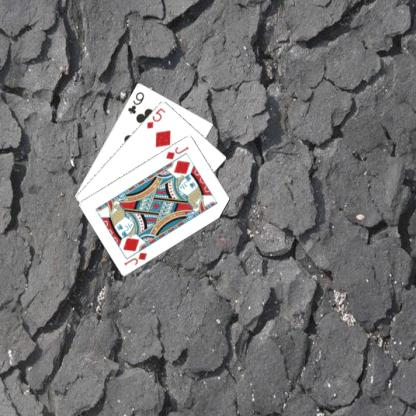5D: (144, 105, 166, 130)
9C: (125, 89, 146, 115)
JD: (163, 143, 190, 161), (122, 249, 148, 267)
